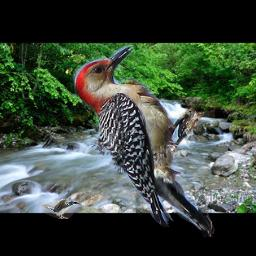Swallow: (40, 198, 79, 219)
Woodpecker: (73, 45, 215, 237)
